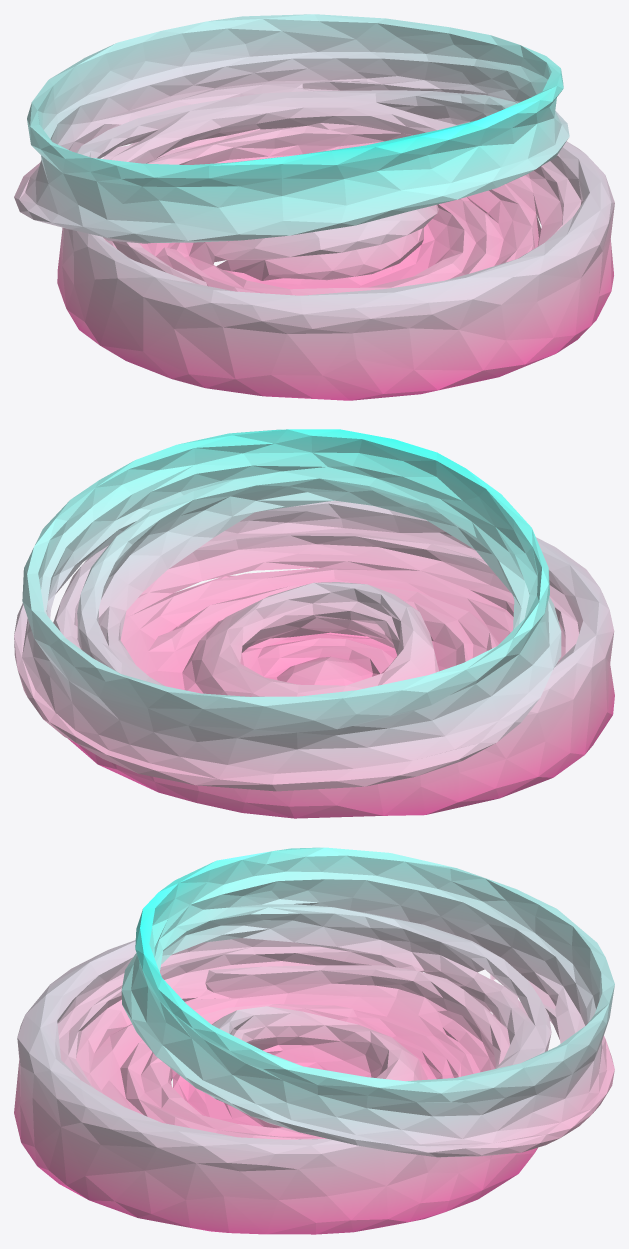
Rendered from 98_cyb_laser_gradient_fish_scales_2961_2026_10_03_473bc2.glb.
The picture shows the model from 3 angles, top to bottom: view 1: azimuth 30°, elevation 25°; view 2: azimuth 150°, elevation 25°; view 3: azimuth 270°, elevation 25°; orthographic projection. The views are drawn at different scales.
Visible parts, largest first — view 1: geometry_0; view 2: geometry_0; view 3: geometry_0.
Part boxes in pixels (left/top/right/bottom): geometry_0: left=14, top=14, right=614, bottom=400; geometry_0: left=14, top=429, right=614, bottom=818; geometry_0: left=14, top=847, right=614, bottom=1234.
Size of the model in its own units: 0.9227 by 0.3706 by 0.9993.
